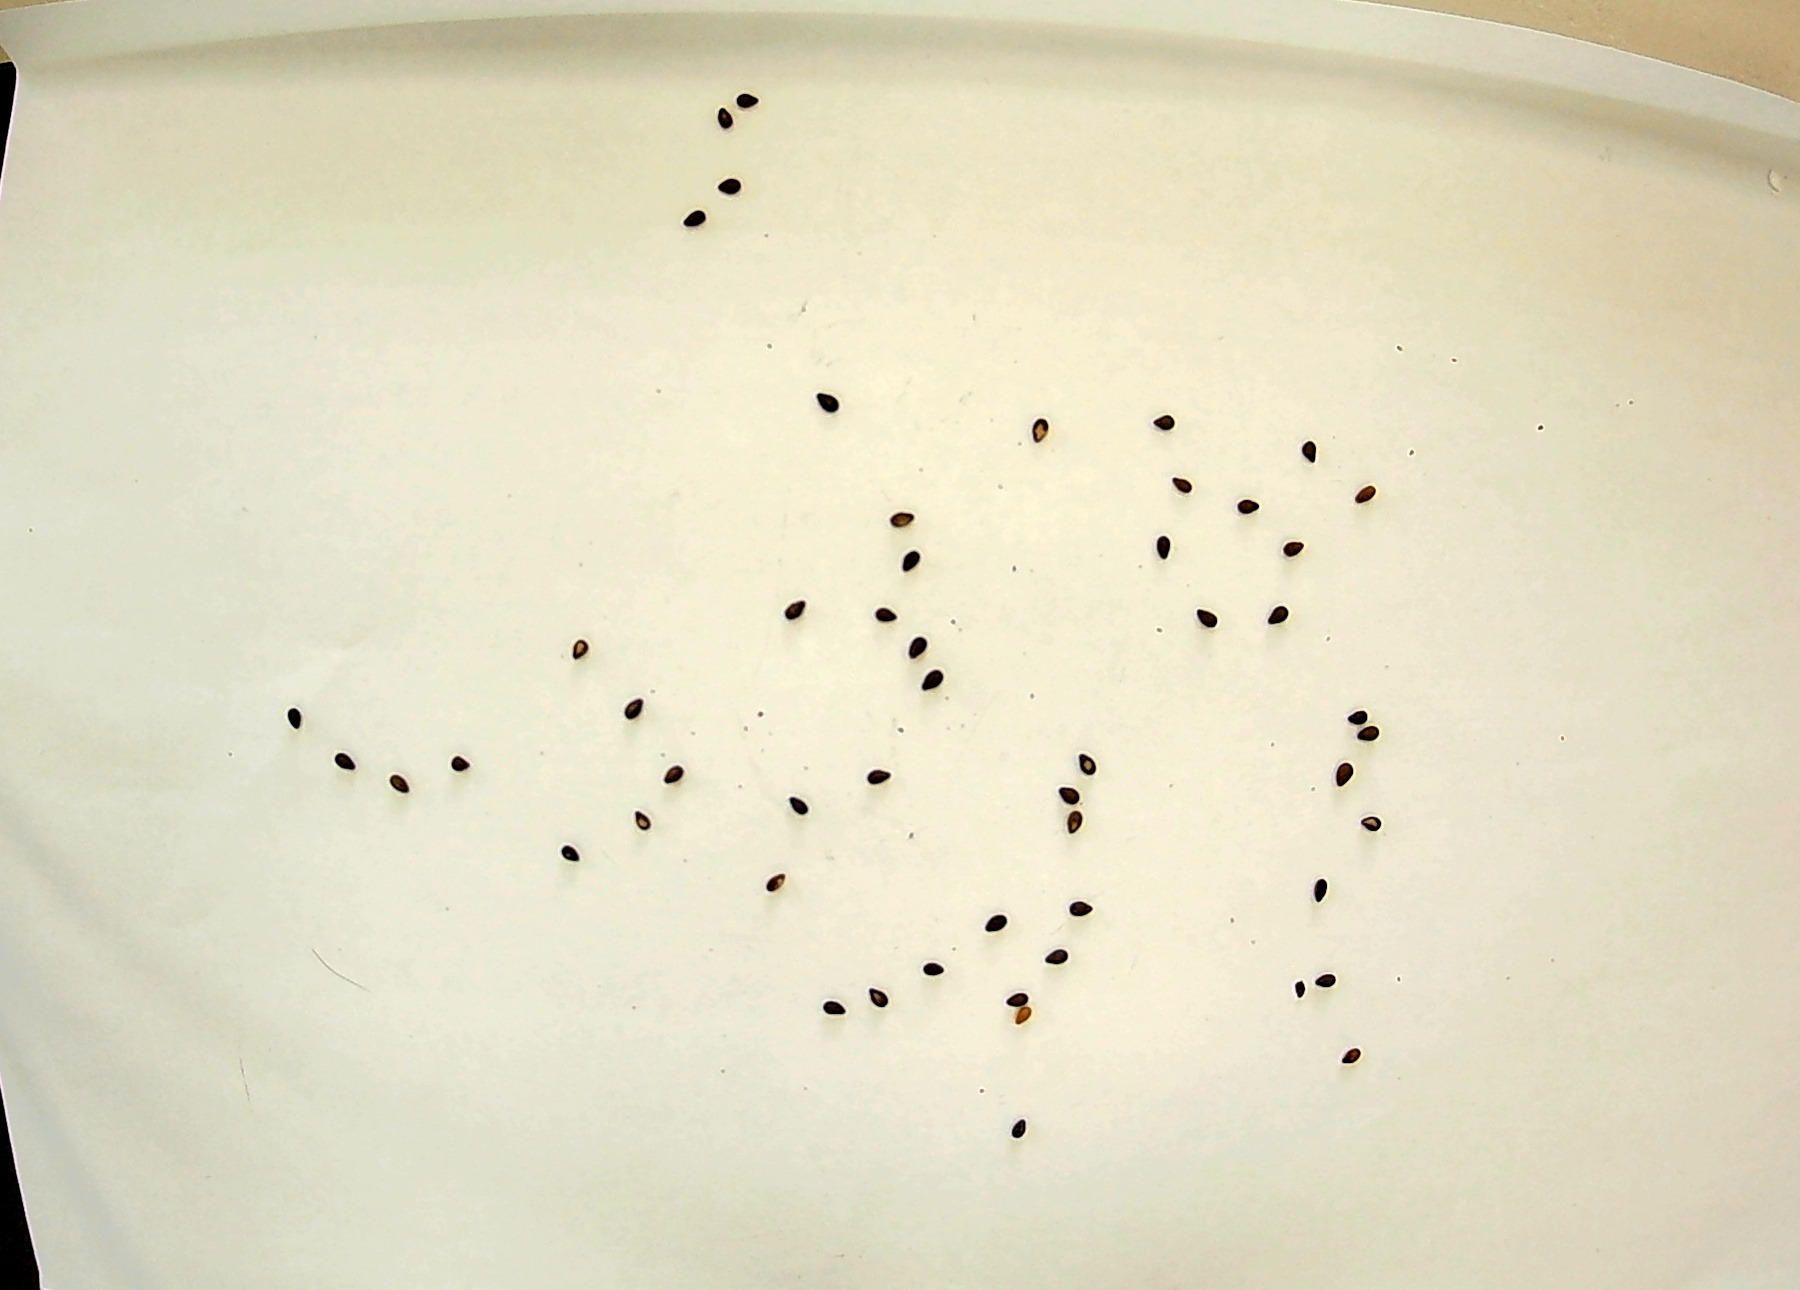sesami: (801, 380, 853, 426), (889, 542, 938, 584), (703, 168, 760, 202), (668, 198, 717, 235), (878, 503, 927, 537), (706, 101, 747, 138), (774, 586, 809, 630), (1293, 430, 1328, 473), (565, 623, 599, 667), (1273, 531, 1317, 564), (903, 627, 940, 666), (438, 748, 483, 780), (1347, 477, 1386, 512), (656, 757, 693, 792), (1058, 885, 1097, 919), (620, 687, 652, 727), (752, 868, 798, 896), (1229, 489, 1271, 519), (914, 666, 952, 699), (328, 744, 366, 778), (1040, 938, 1070, 979), (283, 697, 315, 734), (553, 833, 590, 866), (1260, 599, 1295, 632), (869, 600, 906, 632), (1307, 963, 1344, 995), (385, 769, 428, 796), (1153, 528, 1179, 571), (862, 977, 894, 1012), (1326, 754, 1360, 786), (981, 910, 1014, 942), (858, 764, 899, 790), (1067, 746, 1102, 776), (917, 952, 953, 981), (1190, 605, 1227, 634), (818, 995, 860, 1021), (1333, 1041, 1372, 1068), (1053, 778, 1086, 810), (628, 806, 659, 838), (783, 789, 815, 820), (1169, 468, 1199, 501), (1153, 409, 1187, 437), (1027, 405, 1048, 450), (1353, 811, 1390, 836), (1344, 702, 1374, 732), (1307, 873, 1333, 907), (1005, 1114, 1033, 1143), (734, 87, 766, 112), (1010, 1002, 1037, 1030), (1003, 981, 1033, 1007), (1353, 722, 1388, 743), (1289, 976, 1316, 1001), (1062, 810, 1081, 831)
